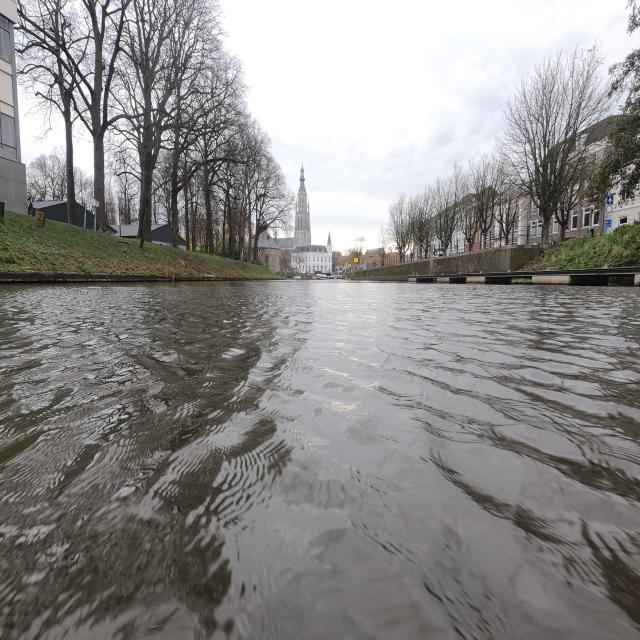dock: (436, 266, 640, 286), (0, 271, 217, 283), (410, 275, 436, 283)
grass: (0, 211, 280, 279), (524, 223, 640, 269)
sky: (220, 0, 640, 250)
water: (0, 280, 640, 640)
